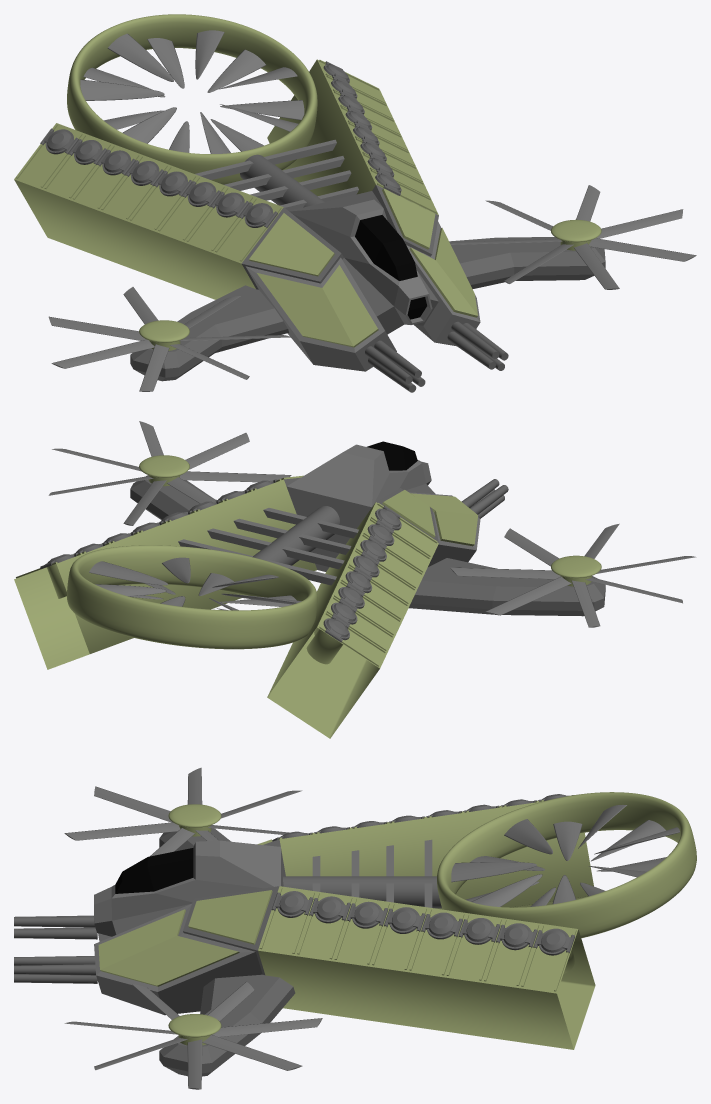
Rendered from Boss.fbx.
3 renders of one model, top to bottom at view 1: azimuth 30°, elevation 25°; view 2: azimuth 150°, elevation 25°; view 3: azimuth 270°, elevation 25°, orthographic. The views are drawn at different scales.
Visible parts, largest first — view 1: Fuselage, Silo, Fan hub, Rotor arms, Prop.001, Silo hatch, Prop.002, Prop.003, Rocket pods, Rotor hub, Fan attachment; view 2: Silo, Fan hub, Fuselage, Prop.001, Rotor arms, Silo hatch, Prop.002, Rotor hub, Fan attachment, Prop.003, Rocket pods; view 3: Silo, Fuselage, Fan hub, Prop.001, Silo hatch, Rotor arms, Prop.002, Rocket pods, Fan attachment, Prop.003, Rotor hub.
Part boxes in pixels (x1,y1,x2,y2): Fuselage: (195, 139, 480, 371); Silo: (14, 59, 438, 299); Fan hub: (67, 14, 317, 184); Rotor arms: (130, 237, 605, 381); Prop.001: (48, 185, 696, 391); Silo hatch: (40, 61, 401, 227); Prop.002: (80, 30, 298, 153); Prop.003: (83, 38, 304, 152); Rocket pods: (365, 321, 508, 392); Rotor hub: (139, 219, 601, 350); Fan attachment: (240, 154, 325, 207); Silo: (14, 479, 438, 738); Fan hub: (67, 545, 317, 649); Fuselage: (178, 441, 480, 585); Prop.001: (48, 421, 696, 627); Rotor arms: (130, 475, 605, 616); Silo hatch: (40, 479, 401, 642); Prop.002: (89, 557, 301, 610); Rotor hub: (139, 455, 601, 586); Fan attachment: (252, 506, 339, 565); Prop.003: (129, 573, 296, 610); Rocket pods: (417, 460, 508, 518); Silo: (258, 800, 595, 1049); Fuselage: (94, 839, 432, 1015); Fan hub: (437, 792, 696, 938); Prop.001: (64, 767, 322, 1089); Silo hatch: (271, 794, 574, 955); Rotor arms: (159, 828, 295, 1076); Prop.002: (451, 805, 679, 906); Rocket pods: (14, 915, 97, 983); Fan attachment: (283, 876, 441, 908); Prop.003: (465, 820, 666, 906); Rotor hub: (168, 804, 221, 1045).
Size of the model in its own units: 38.59 by 34.61 by 8.49.
